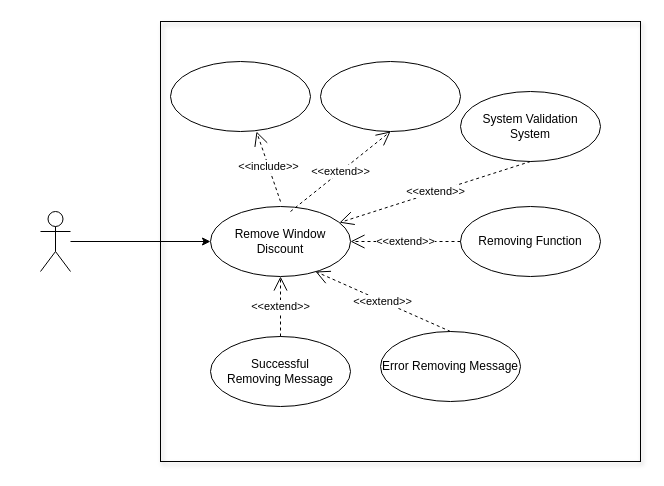
The diagram is 664 pixels wide and 486 high, and some of its shapes have lost their labels. The shapes that lost their labels are listed below. From the top down, each one's centre as x and y in pixels, then its label:
At point (240, 96): "Confirmation Message".
At point (390, 96): "System Checking Inputs Filling".
At point (55, 241): "Admin/ Owner".
